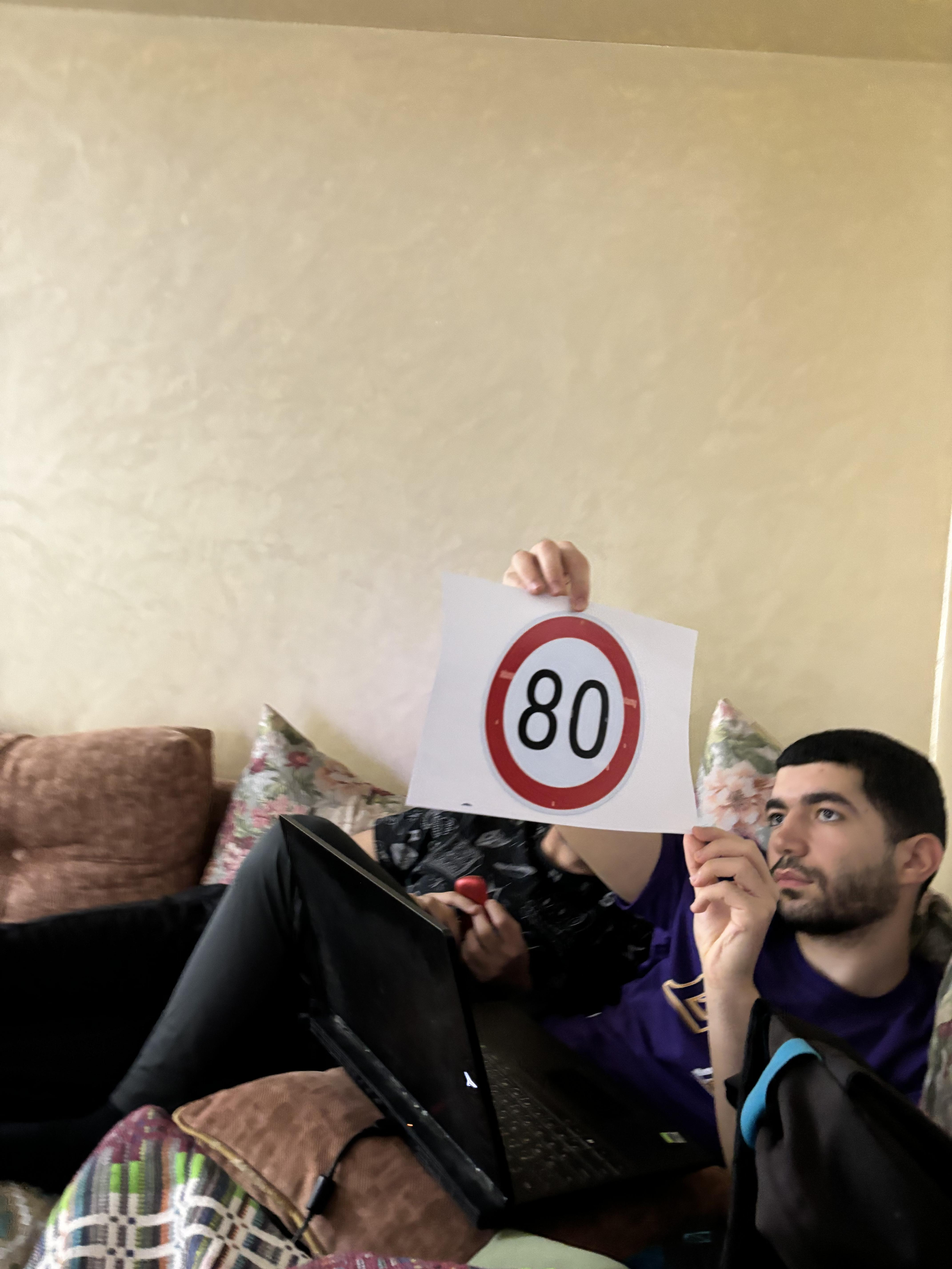80-Speed: (485, 616, 642, 815)
